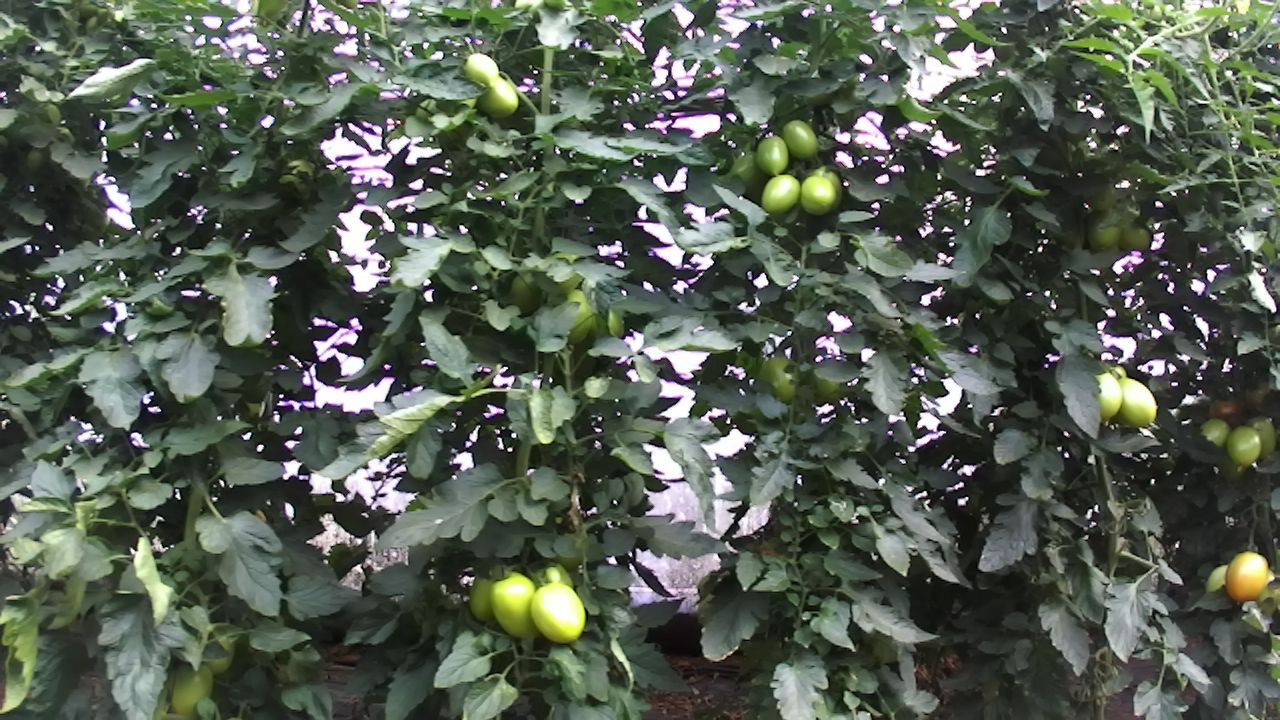tomato: (486, 568, 544, 642), (527, 580, 588, 646), (1223, 547, 1271, 605), (1112, 373, 1158, 429), (758, 169, 802, 217), (473, 76, 520, 120), (1222, 422, 1263, 469), (779, 116, 820, 161), (753, 131, 791, 179), (798, 173, 838, 217), (461, 51, 500, 88)
